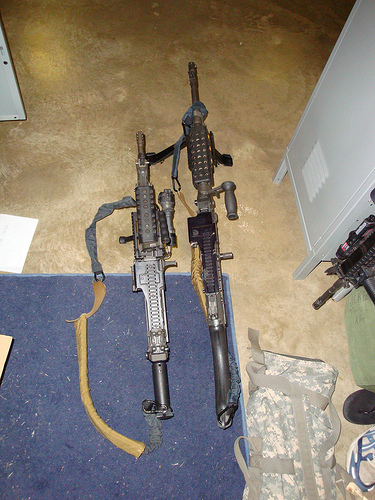rifle: (180, 63, 265, 413), (106, 115, 187, 423)
